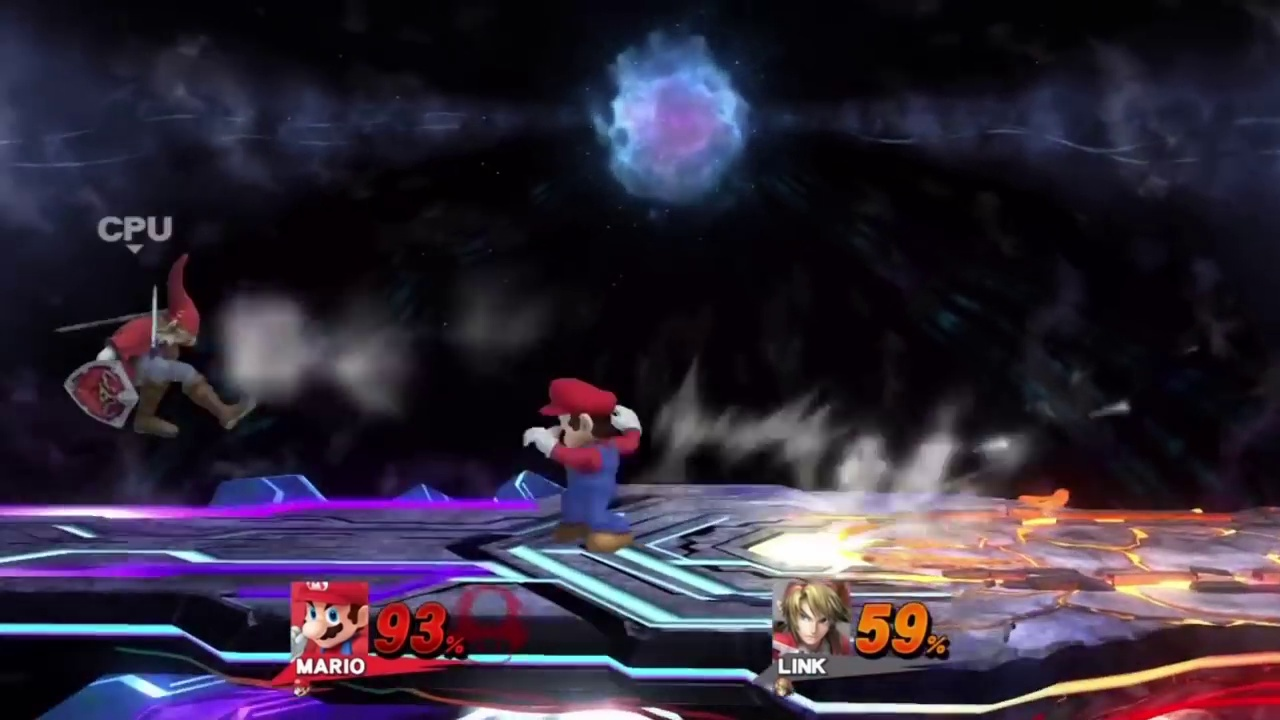Mario: (522, 376, 644, 546)
